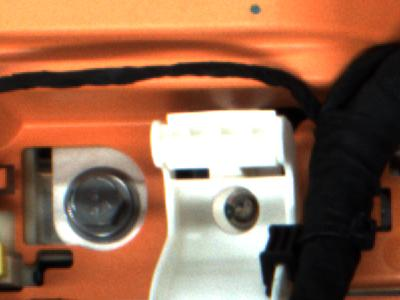nut_b: (58, 166, 147, 243)
